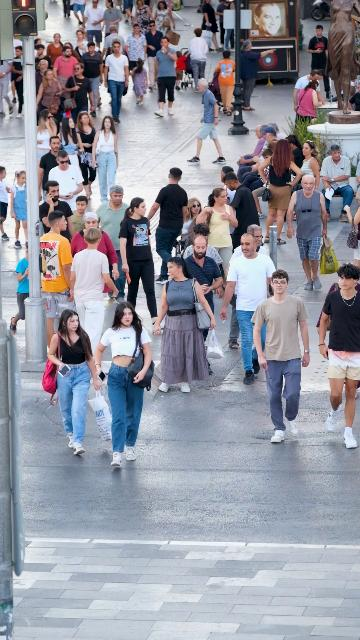person: (93, 301, 155, 469), (252, 270, 311, 443), (220, 233, 277, 386), (153, 258, 217, 393), (47, 309, 102, 456), (317, 263, 360, 450), (70, 228, 118, 357), (118, 197, 159, 327), (146, 167, 189, 286), (39, 210, 75, 349), (287, 175, 328, 291), (258, 139, 302, 246), (69, 211, 120, 299), (196, 187, 239, 280), (95, 184, 128, 303), (183, 234, 225, 318), (187, 78, 227, 164), (222, 172, 262, 254), (320, 145, 355, 223), (240, 40, 277, 111), (237, 124, 278, 187), (92, 116, 119, 205), (103, 41, 130, 124), (37, 136, 71, 201), (39, 181, 75, 242), (47, 149, 86, 205), (53, 45, 81, 116), (154, 37, 178, 119), (240, 140, 277, 193), (307, 25, 333, 100), (63, 62, 95, 122), (58, 116, 84, 189), (10, 241, 30, 335), (183, 223, 223, 270), (75, 111, 96, 198), (80, 42, 104, 111), (251, 148, 274, 217), (237, 125, 265, 181), (9, 169, 28, 249), (296, 80, 326, 128), (143, 20, 163, 91), (293, 69, 325, 113), (187, 27, 209, 89), (36, 69, 63, 118), (36, 109, 58, 169), (216, 50, 236, 116), (232, 224, 268, 260), (82, 0, 106, 51), (125, 23, 148, 73), (299, 140, 321, 192), (9, 46, 24, 119), (201, 0, 222, 52), (128, 60, 149, 107), (182, 197, 203, 240), (0, 166, 12, 241), (153, 1, 176, 39), (216, 0, 233, 51), (101, 0, 123, 37), (70, 196, 88, 236), (218, 165, 236, 205), (103, 24, 125, 56), (285, 135, 304, 169), (47, 33, 65, 68), (175, 47, 189, 90), (73, 30, 90, 60), (227, 0, 236, 50), (36, 58, 48, 94), (267, 122, 285, 140), (63, 42, 78, 59)
